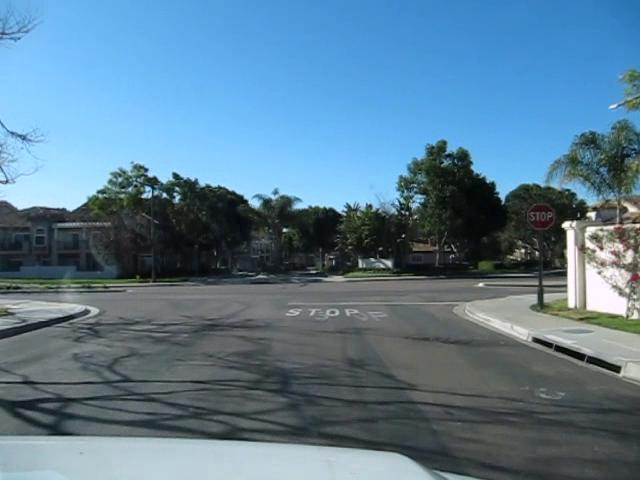stop: (526, 201, 555, 230)
